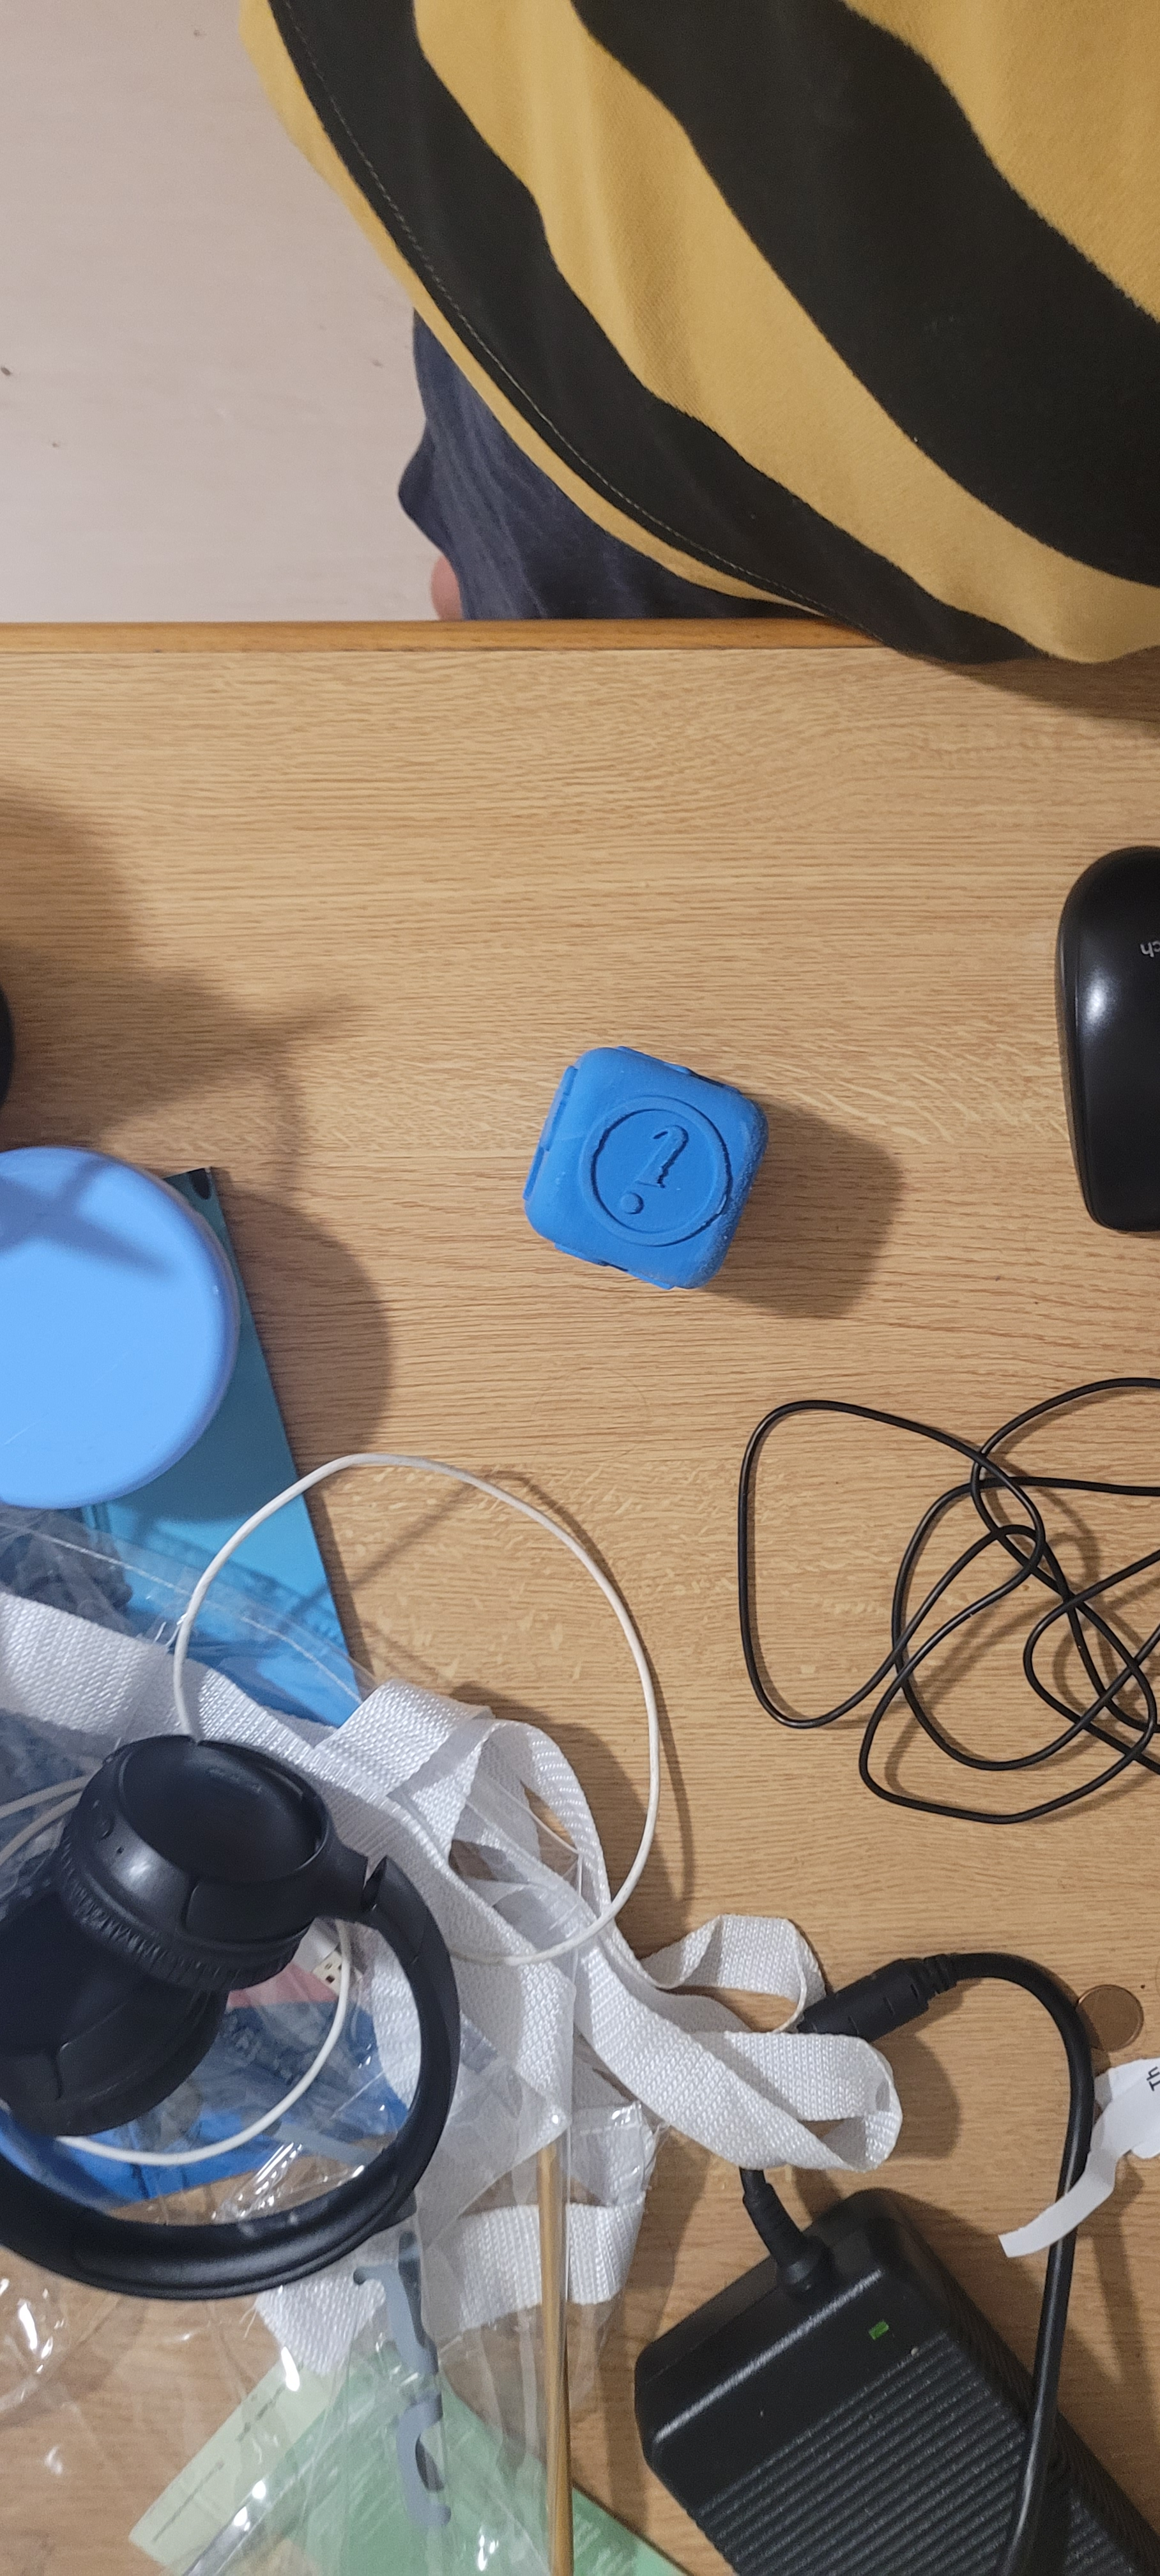Info: (592, 1069, 741, 1249)
